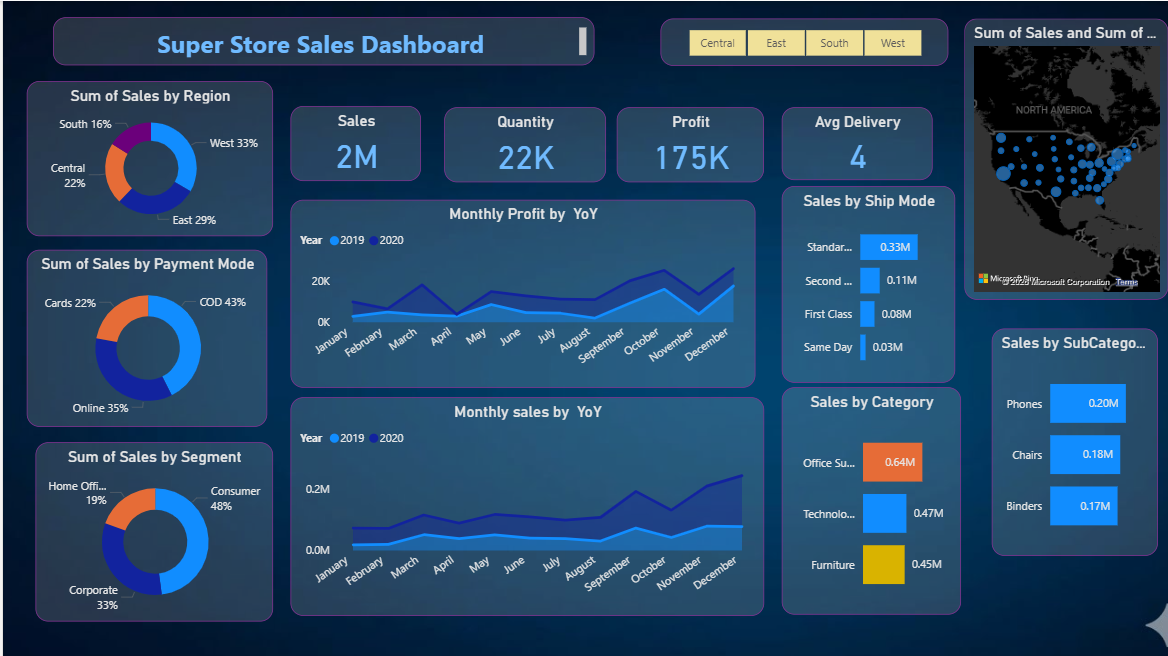

This screenshot's page, from the dashboard's own definition file:
{"tool":"powerbi","page":{"name":"Page 2","canvas":[1280,720],"ordinal":0},"visuals":[{"type":"clusteredBarChart","title":" Sales by Category","fields":{"Category":["SuperStore_Sales_Dataset.Category"],"Y":["Sum(SuperStore_Sales_Dataset.Sales)"]},"box":[855.4,424.7,196.6,249.7],"z":0},{"type":"clusteredBarChart","title":" Sales by SubCategory","fields":{"Y":["Sum(SuperStore_Sales_Dataset.Sales)"],"Category":["SuperStore_Sales_Dataset.Sub-Category"]},"box":[1085.4,359.5,182.5,249.7],"z":1000},{"type":"clusteredBarChart","title":" Sales by Ship Mode","fields":{"Y":["Sum(SuperStore_Sales_Dataset.Sales)"],"Category":["SuperStore_Sales_Dataset.Ship Mode"]},"box":[855.4,202.7,190.6,216],"z":2000},{"type":"stackedAreaChart","title":" Monthly sales by  YoY","fields":{"Y":["Sum(SuperStore_Sales_Dataset.Sales)"],"Category":["SuperStore_Sales_Dataset.Order Date.Variation.Date Hierarchy.Month","SuperStore_Sales_Dataset.Order Date.Variation.Date Hierarchy.Day"],"Series":["SuperStore_Sales_Dataset.Order Date.Variation.Date Hierarchy.Year"]},"box":[316.1,434.3,520,240.1],"z":3000},{"type":"stackedAreaChart","title":" Monthly Profit by  YoY","fields":{"Category":["SuperStore_Sales_Dataset.Order Date.Variation.Date Hierarchy.Month","SuperStore_Sales_Dataset.Order Date.Variation.Date Hierarchy.Day"],"Series":["SuperStore_Sales_Dataset.Order Date.Variation.Date Hierarchy.Year"],"Y":["Sum(SuperStore_Sales_Dataset.Profit)"]},"box":[316.1,218.4,510.3,206.3],"z":4000},{"type":"map","fields":{"Category":["SuperStore_Sales_Dataset.State"],"Size":["Sum(SuperStore_Sales_Dataset.Sales)"]},"box":[1055.6,19.3,224.4,308.8],"z":5000},{"type":"donutChart","fields":{"Category":["SuperStore_Sales_Dataset.Segment"],"Y":["Sum(SuperStore_Sales_Dataset.Sales)"]},"box":[36.2,485,260.6,196.6],"z":6000},{"type":"donutChart","fields":{"Category":["SuperStore_Sales_Dataset.Payment Mode"],"Y":["Sum(SuperStore_Sales_Dataset.Sales)"]},"box":[26.5,272.7,264.2,194.2],"z":7000},{"type":"slicer","fields":{"Values":["SuperStore_Sales_Dataset.Region"]},"box":[721.5,19.3,316.1,51.9],"z":8000},{"type":"textbox","box":[54.3,18.1,594.8,53.1],"z":9000},{"type":"card","title":"Sales","fields":{"Values":["Sum(SuperStore_Sales_Dataset.Sales)"]},"box":[316.1,114.6,143.6,82],"z":10000},{"type":"card","title":"Quantity","fields":{"Values":["Sum(SuperStore_Sales_Dataset.Quantity)"]},"box":[483.8,117,177.3,82],"z":11000},{"type":"card","title":"Profit","fields":{"Values":["Sum(SuperStore_Sales_Dataset.Profit)"]},"box":[674.4,117,161.7,82],"z":12000},{"type":"card","title":"Avg Delivery ","fields":{"Values":["Avg(SuperStore_Sales_Dataset.AvgDelivery)"]},"box":[855.4,117,165.3,79.6],"z":13000},{"type":"donutChart","fields":{"Category":["SuperStore_Sales_Dataset.Region"],"Y":["Sum(SuperStore_Sales_Dataset.Sales)"]},"box":[26.5,88.1,270.2,170.1],"z":14000}]}

Visuals, with their boxes in screenshot pixels (x1, y1, x2, y2), scaled from the page's 1280x720 canvas onto the 1168x656 screenshot:
" Sales by Category" clusteredBarChart: box=[781, 387, 960, 614]
" Sales by SubCategory" clusteredBarChart: box=[990, 328, 1157, 555]
" Sales by Ship Mode" clusteredBarChart: box=[781, 185, 954, 381]
" Monthly sales by  YoY" stackedAreaChart: box=[288, 396, 763, 614]
" Monthly Profit by  YoY" stackedAreaChart: box=[288, 199, 754, 387]
map - SuperStore_Sales_Dataset.State x Sum(SuperStore_Sales_Dataset.Sales): box=[963, 18, 1167, 299]
donutChart - SuperStore_Sales_Dataset.Segment x Sum(SuperStore_Sales_Dataset.Sales): box=[33, 442, 271, 621]
donutChart - SuperStore_Sales_Dataset.Payment Mode x Sum(SuperStore_Sales_Dataset.Sales): box=[24, 248, 265, 425]
slicer - SuperStore_Sales_Dataset.Region: box=[658, 18, 947, 65]
textbox: box=[50, 16, 592, 65]
"Sales" card: box=[288, 104, 419, 179]
"Quantity" card: box=[441, 107, 603, 181]
"Profit" card: box=[615, 107, 763, 181]
"Avg Delivery " card: box=[781, 107, 931, 179]
donutChart - SuperStore_Sales_Dataset.Region x Sum(SuperStore_Sales_Dataset.Sales): box=[24, 80, 271, 235]
